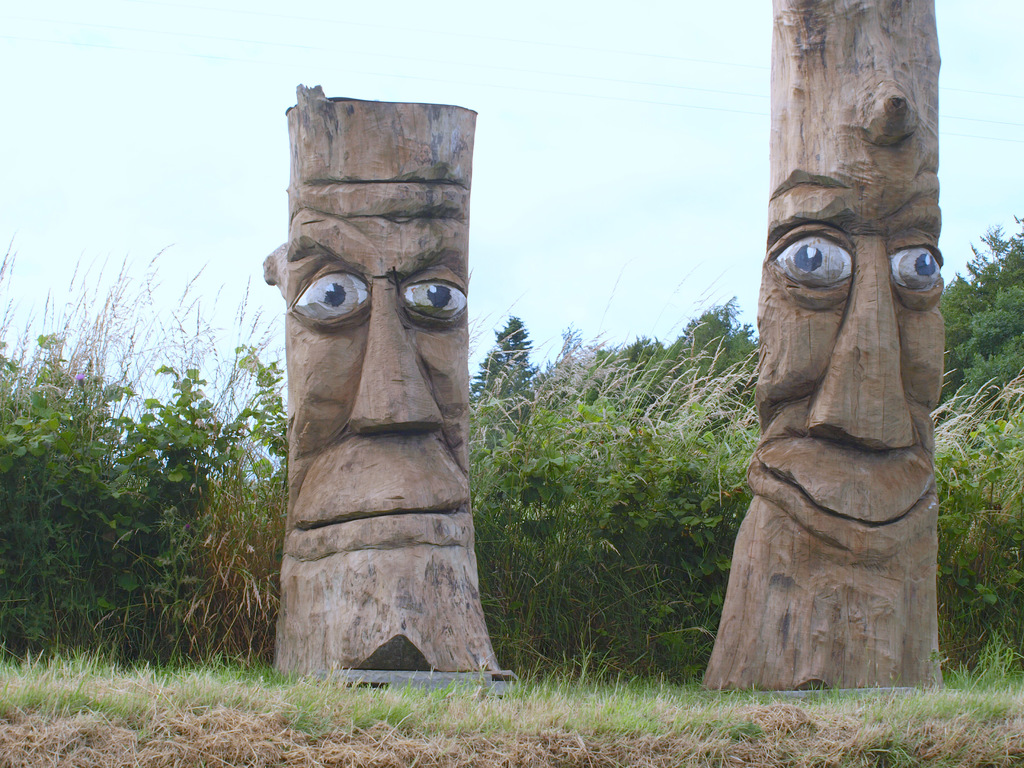Tree: (473, 223, 1024, 407)
